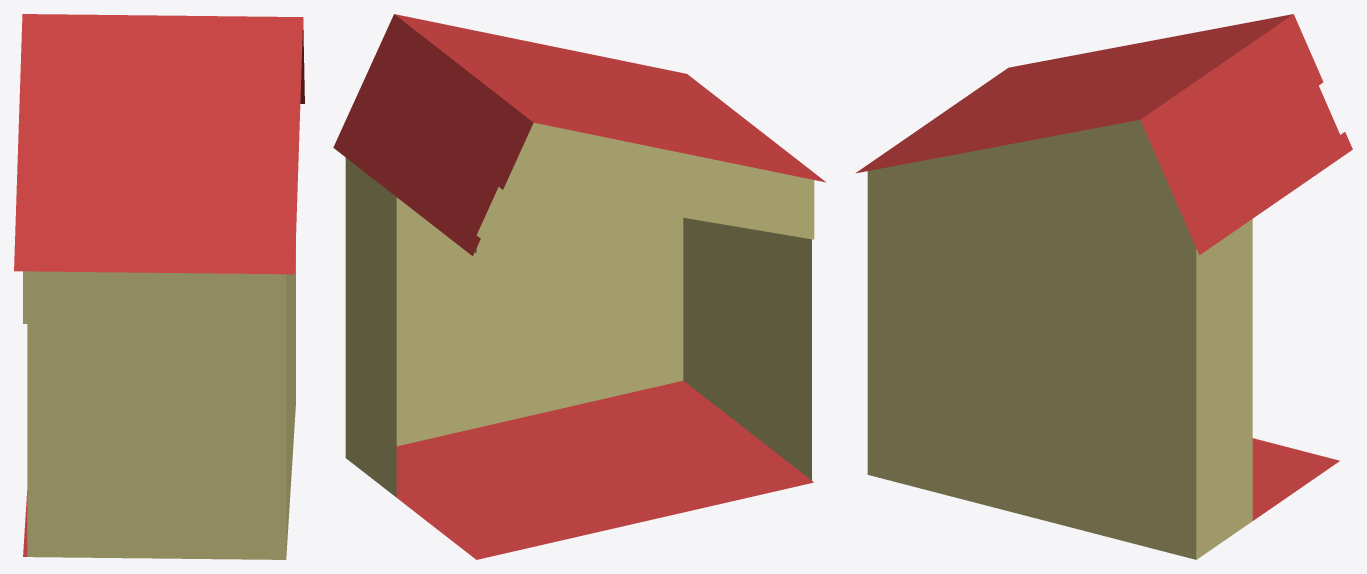
3 renders of one model, left to right at view 1: azimuth 30°, elevation 25°; view 2: azimuth 150°, elevation 25°; view 3: azimuth 270°, elevation 25°, orthographic. The views are drawn at different scales.
Size of the model in its own units: 12.57 by 13.56 by 12.93.
